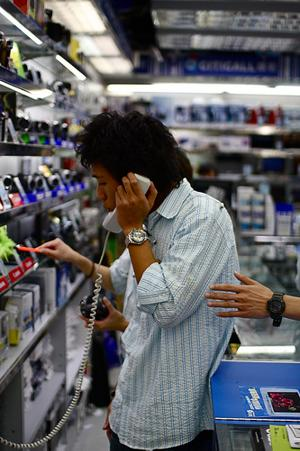person: (32, 104, 241, 448)
